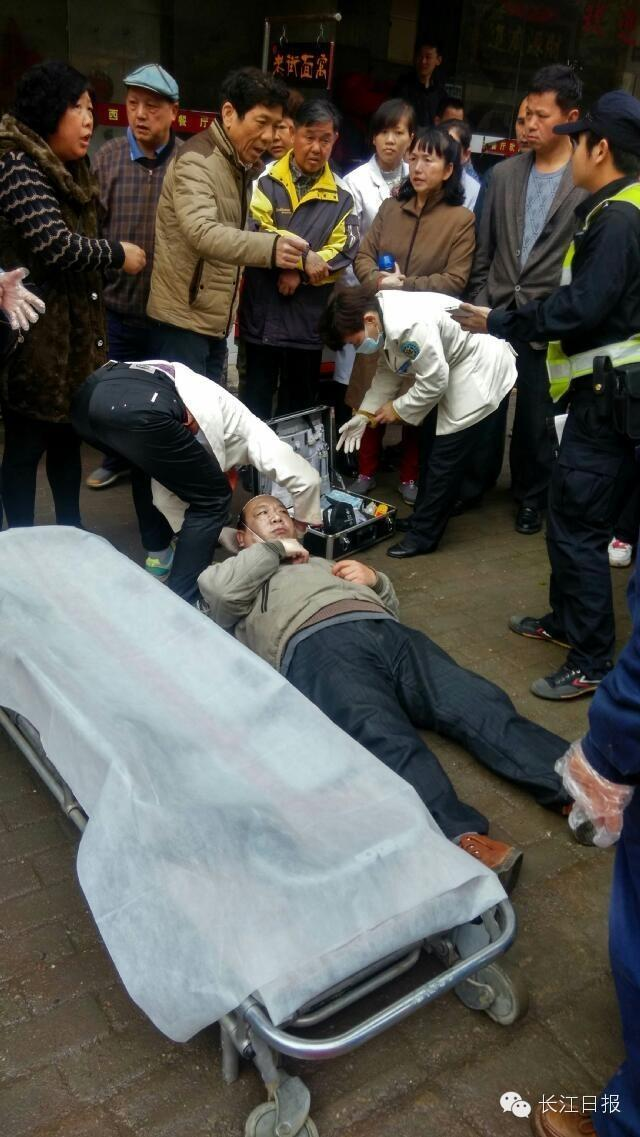10+: (3, 48, 640, 1120)
down: (191, 485, 615, 883)
